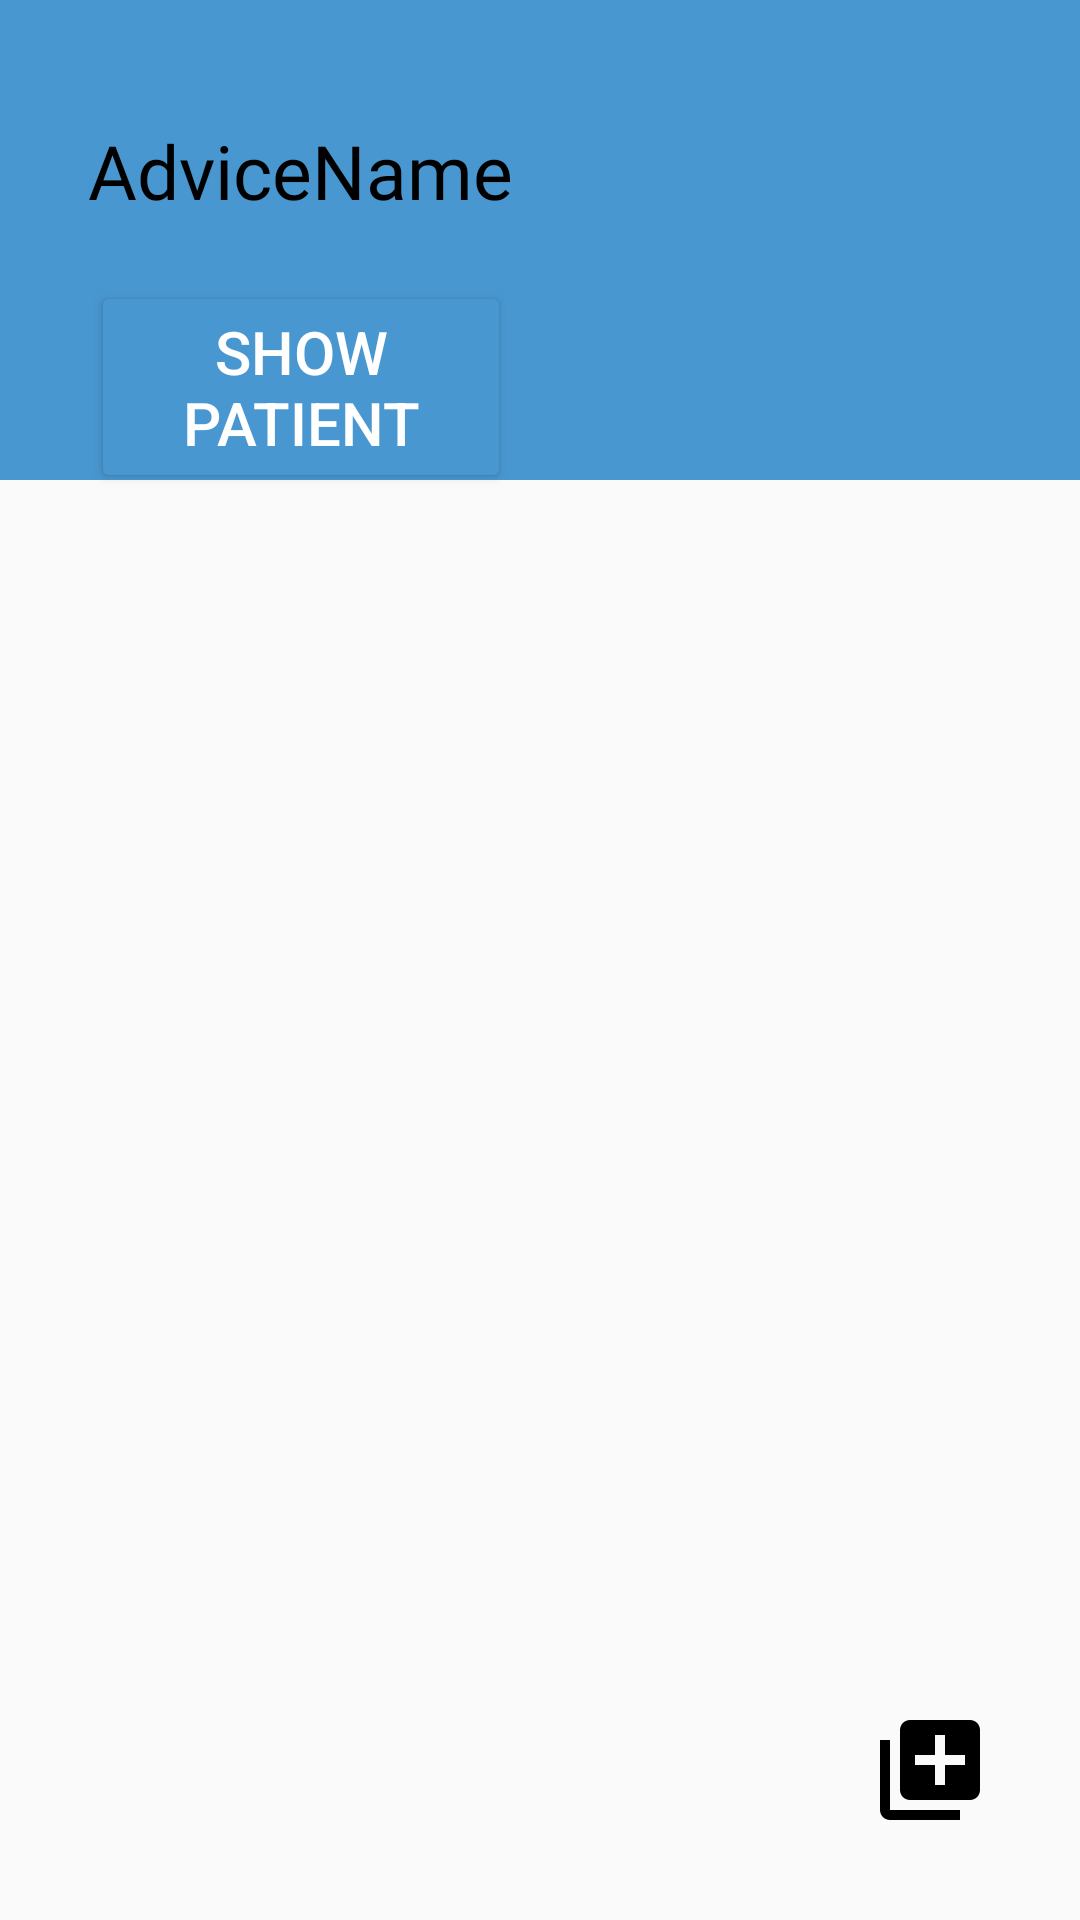

Named icons in this screenshot (1080px x 1920px) and their centers, (x,y):
library add: (930,1770)
